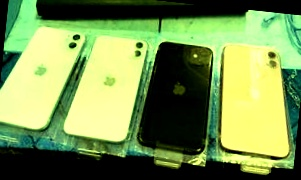iphone: (6, 36, 83, 146), (159, 41, 233, 148), (91, 41, 158, 148)
